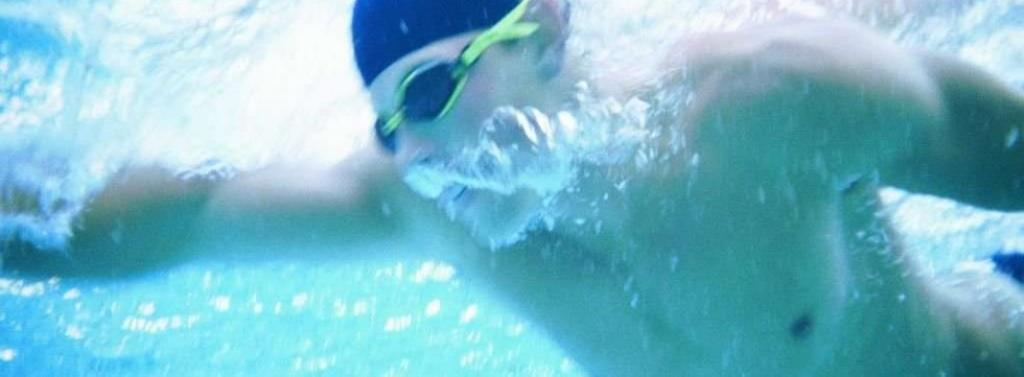face: (370, 24, 554, 248)
